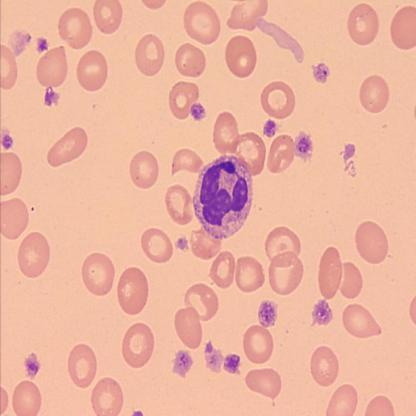Segmented neutrophil: (191, 150, 257, 242)
